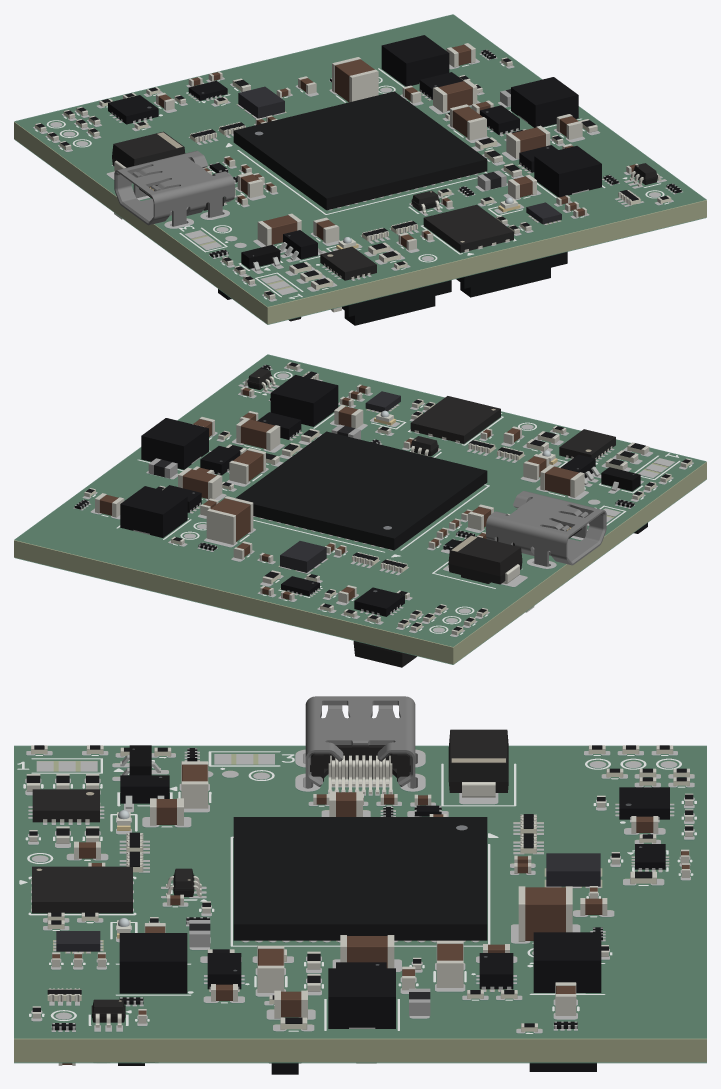
3 views of the same model, one above another, from view 1: azimuth 30°, elevation 25°; view 2: azimuth 150°, elevation 25°; view 3: azimuth 270°, elevation 25° (orthographic). The views are drawn at different scales.
Visible parts, largest first — view 1: =>[0:1:1:472], =>[0:1:1:470], CSG325_Body, package_body (×9), =>[0:1:1:411], =>[0:1:1:467], =>[0:1:1:367] (×4), =>[0:1:1:5], =>[0:1:1:32] (×5), Nominal_fixed_LCP_cradle (×2), =>[0:1:1:468], Nominal_floating_LCP_housing (×2) (+6 smaller); view 2: =>[0:1:1:472], =>[0:1:1:470], CSG325_Body, package_body (×8), =>[0:1:1:411], =>[0:1:1:467], =>[0:1:1:367] (×4), =>[0:1:1:380], =>[0:1:1:5], =>[0:1:1:468], =>[0:1:1:400], =>[0:1:1:32] (×3) (+5 smaller); view 3: =>[0:1:1:472], =>[0:1:1:470], CSG325_Body, package_body (×10), =>[0:1:1:467], =>[0:1:1:411], =>[0:1:1:367] (×4), =>[0:1:1:468], =>[0:1:1:5], =>[0:1:1:380], =>[0:1:1:32] (×4), =>[0:1:1:400] (+6 smaller).
Boxes of the visible parts, x1,y1,x2,y2 form: =>[0:1:1:472]: [14, 15, 706, 324]; =>[0:1:1:470]: [14, 14, 706, 306]; CSG325_Body: [233, 91, 487, 210]; package_body (×9): [108, 35, 601, 268]; =>[0:1:1:411]: [114, 150, 234, 226]; =>[0:1:1:467]: [33, 53, 683, 301]; =>[0:1:1:367] (×4): [257, 79, 550, 245]; =>[0:1:1:5]: [423, 204, 513, 252]; =>[0:1:1:32] (×5): [237, 43, 582, 243]; Nominal_fixed_LCP_cradle (×2): [342, 252, 567, 316]; =>[0:1:1:468]: [35, 64, 668, 299]; Nominal_floating_LCP_housing (×2): [344, 268, 550, 325]; =>[0:1:1:472]: [14, 355, 706, 664]; =>[0:1:1:470]: [14, 354, 706, 646]; CSG325_Body: [235, 431, 487, 550]; package_body (×8): [120, 375, 640, 616]; =>[0:1:1:411]: [486, 491, 606, 566]; =>[0:1:1:467]: [73, 366, 693, 636]; =>[0:1:1:367] (×4): [178, 418, 584, 499]; =>[0:1:1:380]: [448, 535, 522, 584]; =>[0:1:1:5]: [410, 396, 500, 443]; =>[0:1:1:468]: [92, 369, 691, 634]; =>[0:1:1:400]: [206, 496, 253, 544]; =>[0:1:1:32] (×3): [95, 405, 549, 517]; =>[0:1:1:472]: [14, 747, 706, 1062]; =>[0:1:1:470]: [14, 745, 706, 1038]; CSG325_Body: [233, 817, 487, 940]; package_body (×10): [119, 745, 669, 1071]; =>[0:1:1:467]: [25, 749, 694, 1033]; =>[0:1:1:411]: [305, 696, 415, 794]; =>[0:1:1:367] (×4): [181, 761, 463, 992]; =>[0:1:1:468]: [17, 751, 696, 1033]; =>[0:1:1:5]: [31, 866, 132, 913]; =>[0:1:1:380]: [448, 729, 508, 797]; =>[0:1:1:32] (×4): [150, 791, 576, 1018]; =>[0:1:1:400]: [518, 886, 572, 941].
Size of the model in its own units: 0.0416 by 0.00773 by 0.041.
